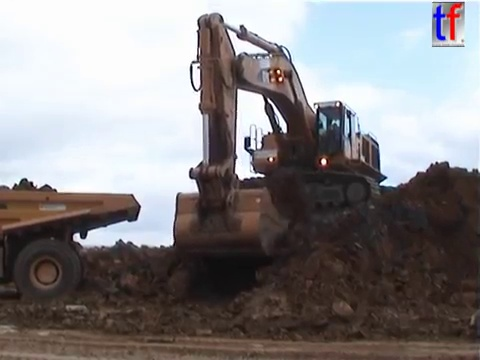excavator: (169, 9, 393, 270)
truck: (1, 185, 145, 307)
